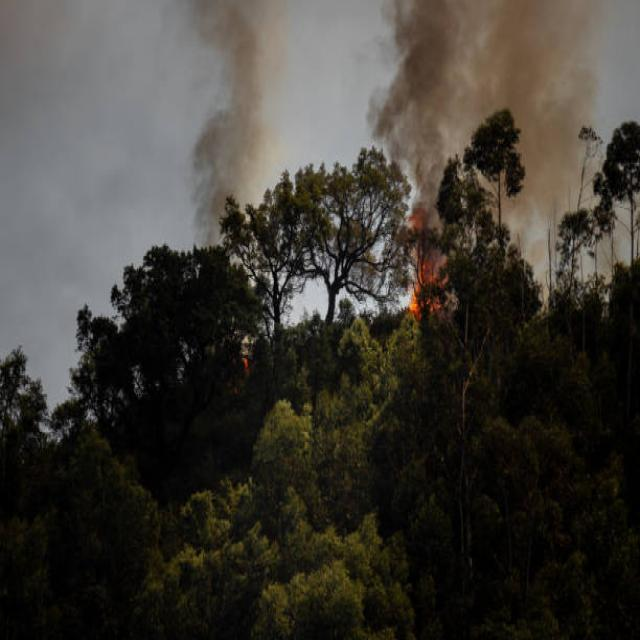Fire: (409, 220, 442, 316), (238, 346, 252, 382)
Smoke: (365, 0, 640, 221), (175, 0, 293, 253)
